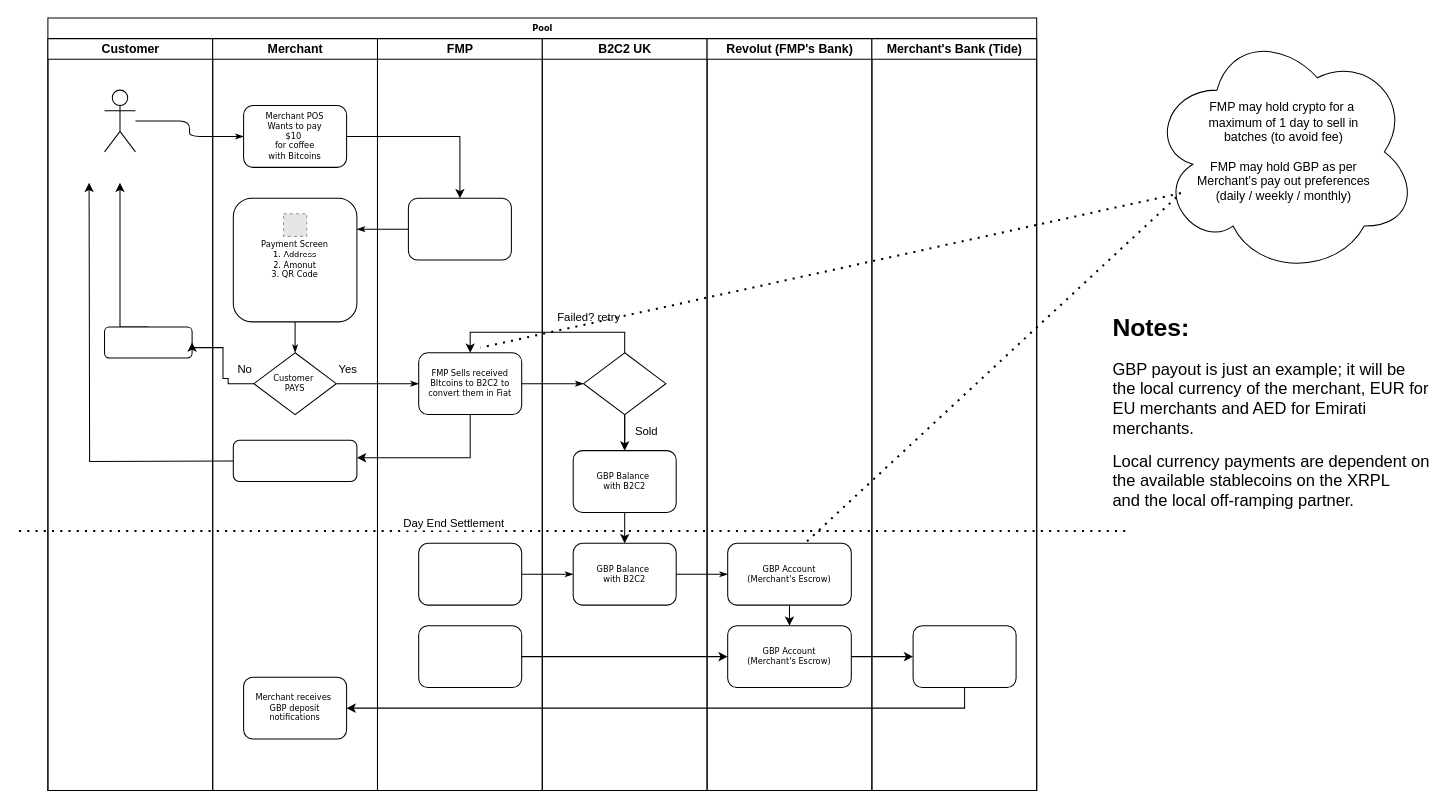
Some shapes in this 1447 by 809 pixel diagram are drawn without their labels. Grey dashed boxes stand in for pictures. The centre of each missing label's shape, as x and y in pixels:
"Actor" goes at (x=119, y=120).
"FMP moves available GBP from B2C2 to its bank account" goes at (x=470, y=573).
"FMP sends pay outs in GBP to Merchants" goes at (x=470, y=656).
"GBP Account (Merchant)" goes at (x=964, y=656).
"Generates a payment address for this transactions & specifies exact BTC amount" goes at (x=459, y=228).
"Order Cancel" goes at (x=148, y=342).
"Order Paid" goes at (x=294, y=460).
"Sell Market Order Success" goes at (x=624, y=383).
